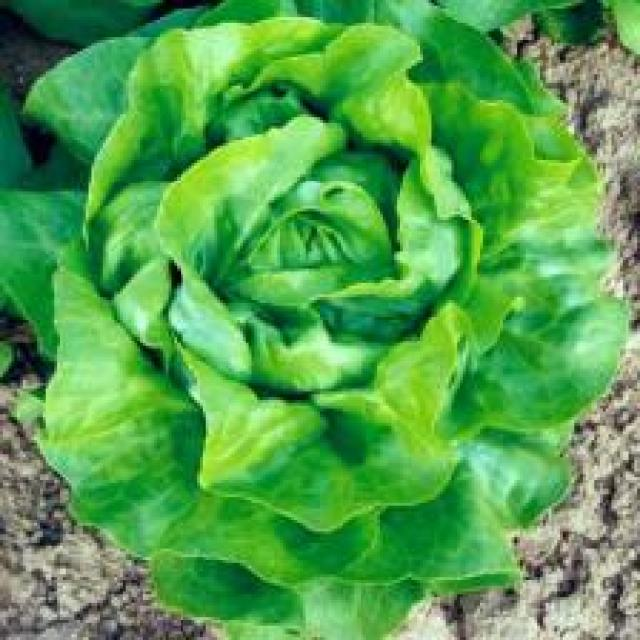Lettuce: (19, 3, 622, 630)
